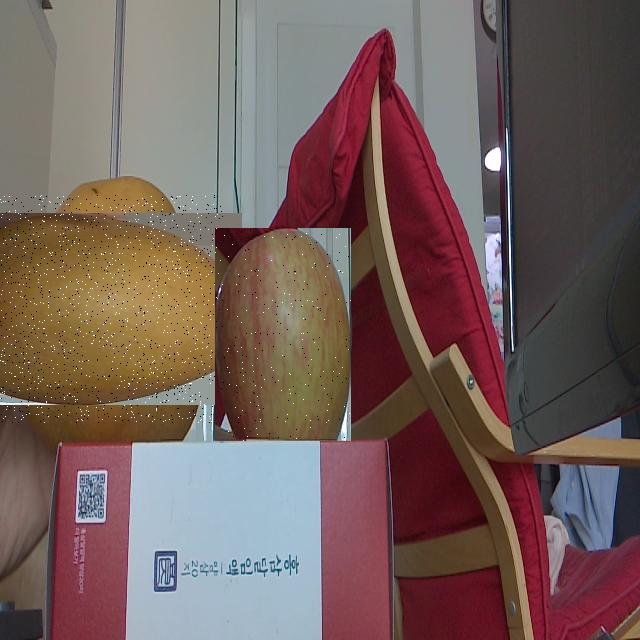apple: (215, 228, 351, 441)
pear: (0, 195, 223, 423)
